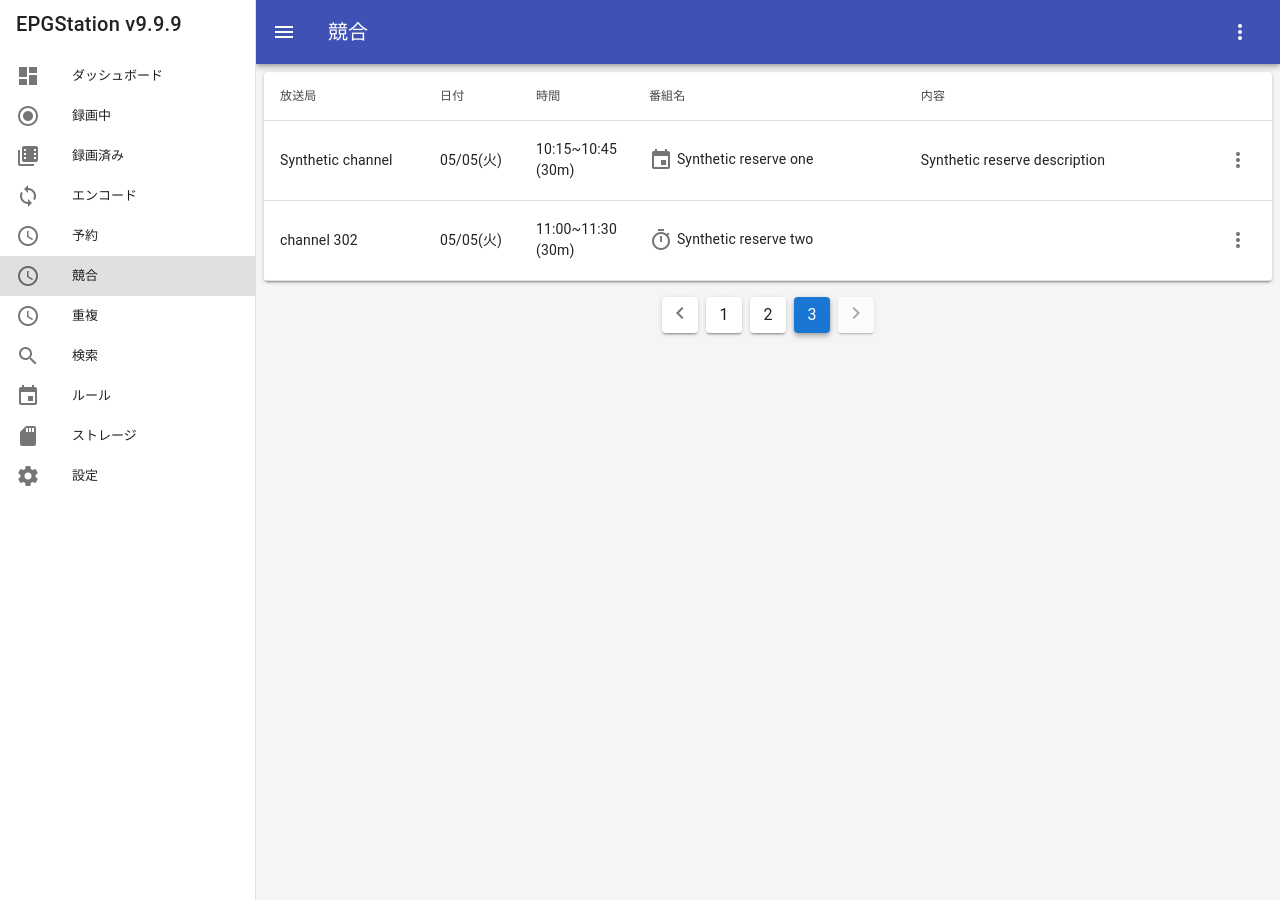
Test: Reserves bulk delete and layout › [AC 3.6] [AC 3.11] reports partial bulk delete failure after sequential DELETE attempts
Check: the text "Synthetic reserve one" is shown, box x1=677 y1=151 x2=814 y2=167
What coordinates should you click on to do the following:
click the button named "予約メニュー"
I would click on:
 (1240, 32)
Its box is x1=1216 y1=8 x2=1264 y2=56.
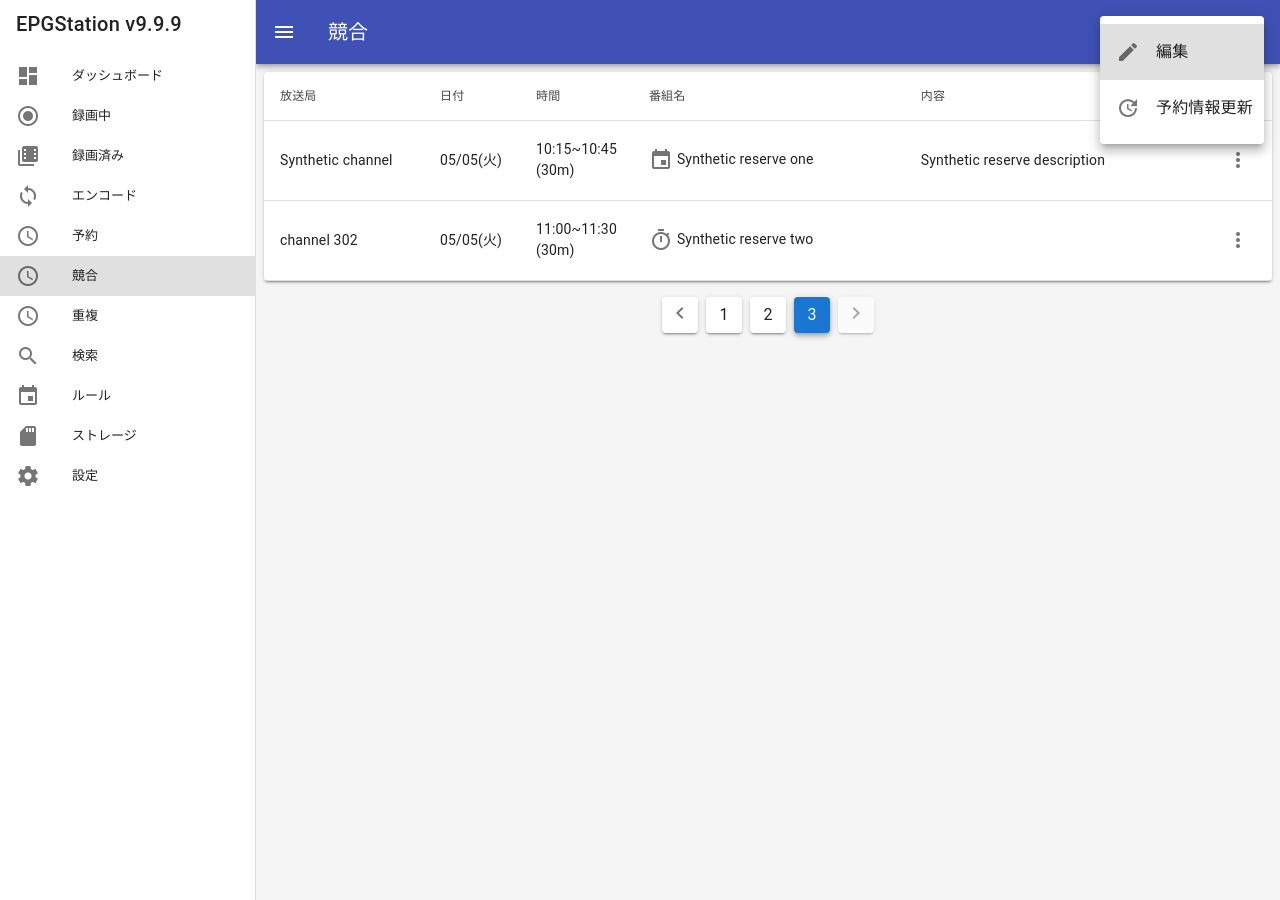
What coordinates should you click on to do the following:
click the menu item "編集"
I would click on:
 (1182, 52)
Its box is x1=1100 y1=24 x2=1264 y2=80.
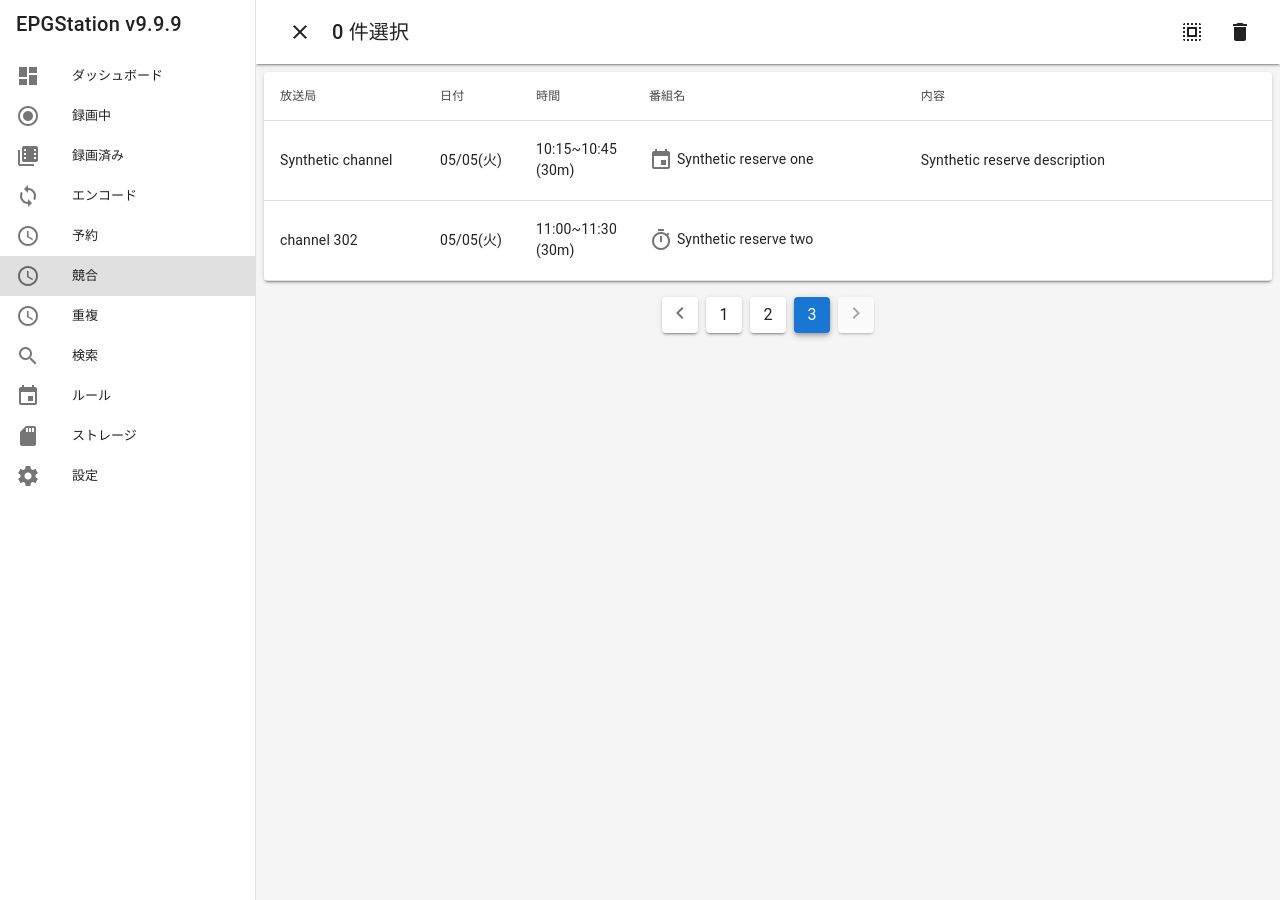
What coordinates should you click on to do the following:
click the button named "すべて選択"
I would click on:
 (1192, 32)
Its box is x1=1168 y1=8 x2=1216 y2=56.
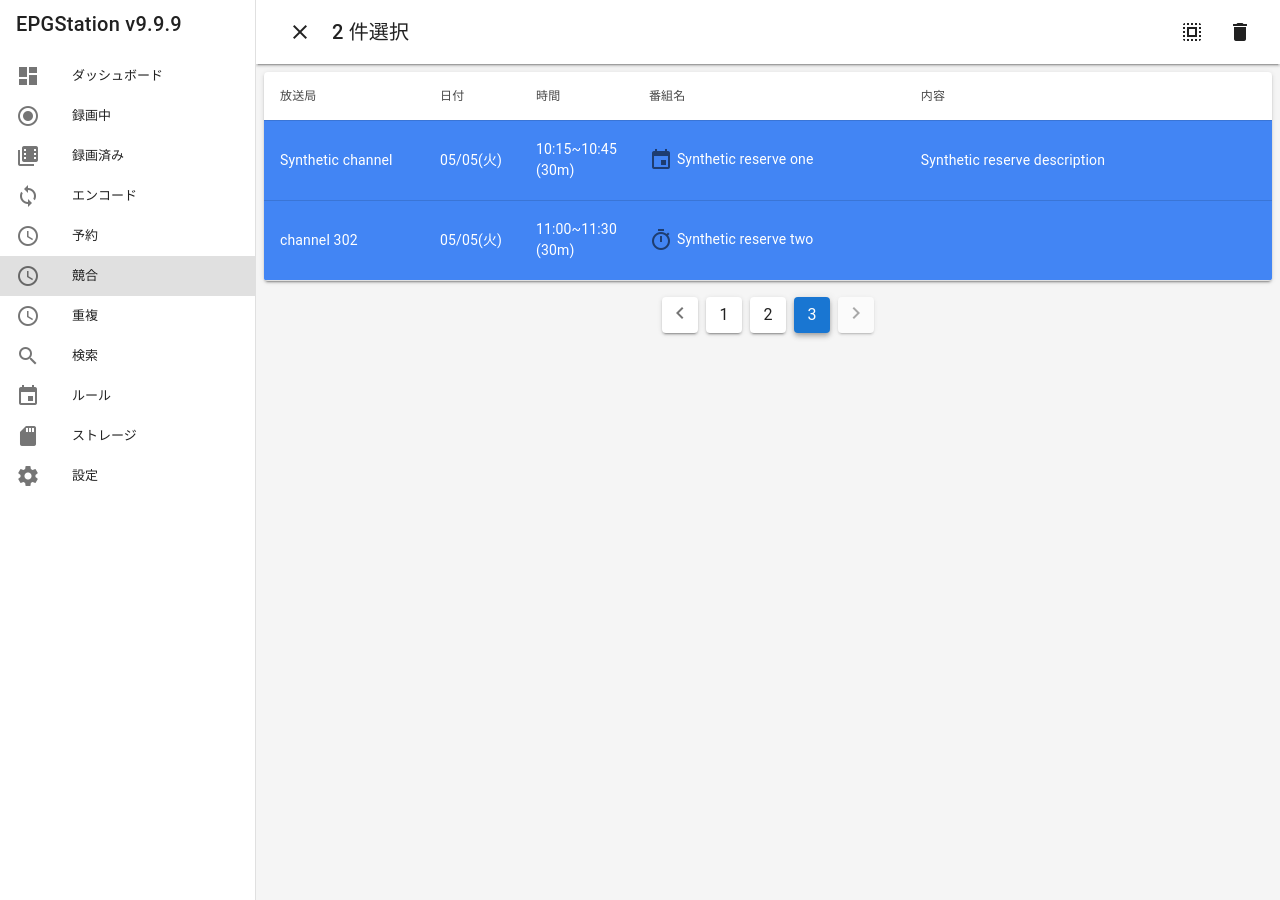
What coordinates should you click on to do the following:
click the button named "選択項目を削除"
I would click on:
 (1240, 32)
Its box is x1=1216 y1=8 x2=1264 y2=56.
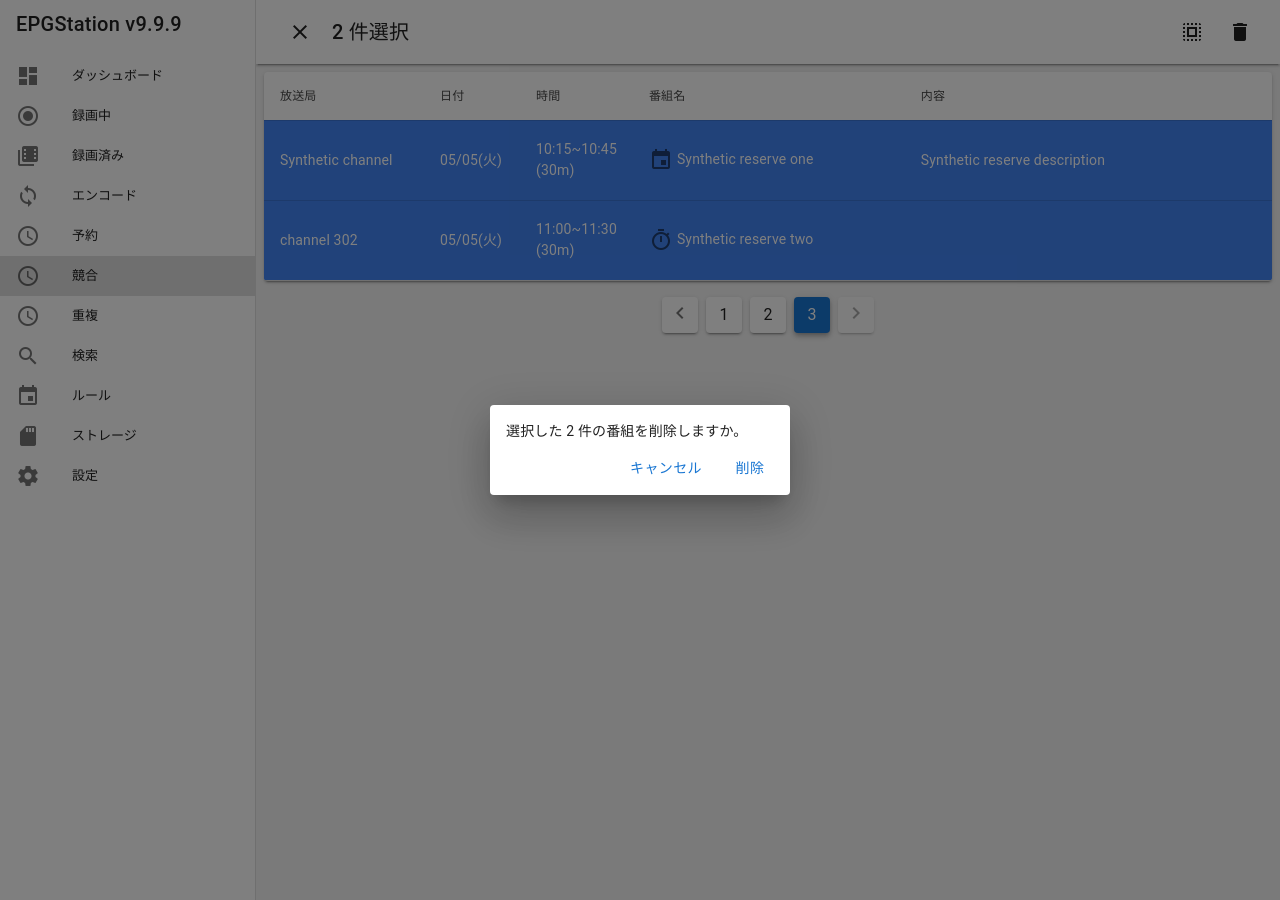
What coordinates should you click on to do the following:
click the button "削除"
I would click on:
 (750, 469)
Its box is x1=718 y1=450 x2=782 y2=487.
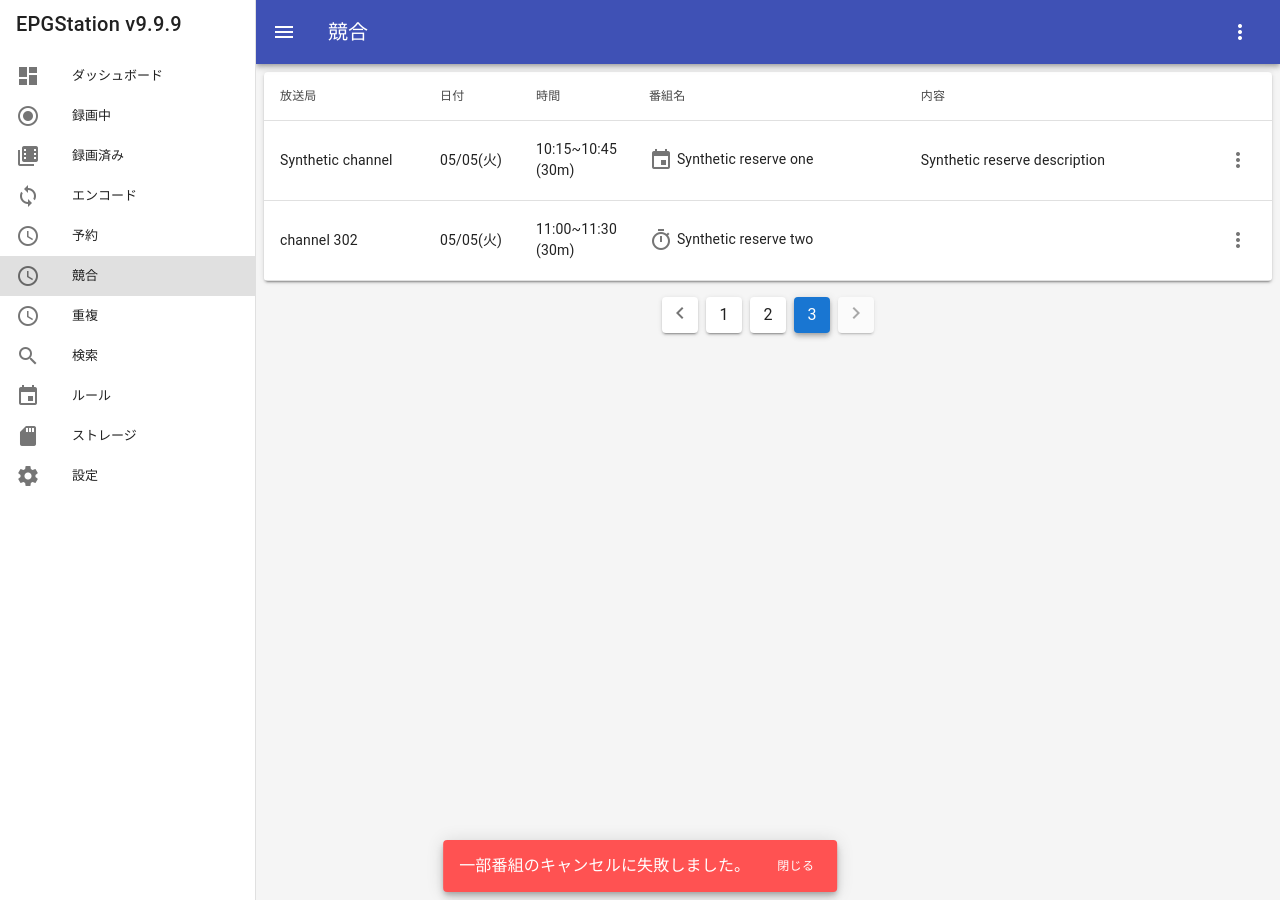
Check: the message shows "一部番組のキャンセルに失敗しました。", box x1=459 y1=856 x2=750 y2=875
